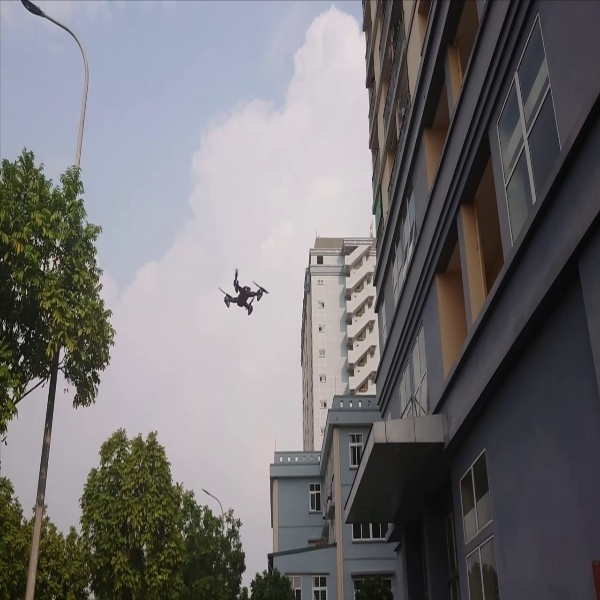drone: (210, 259, 274, 320)
